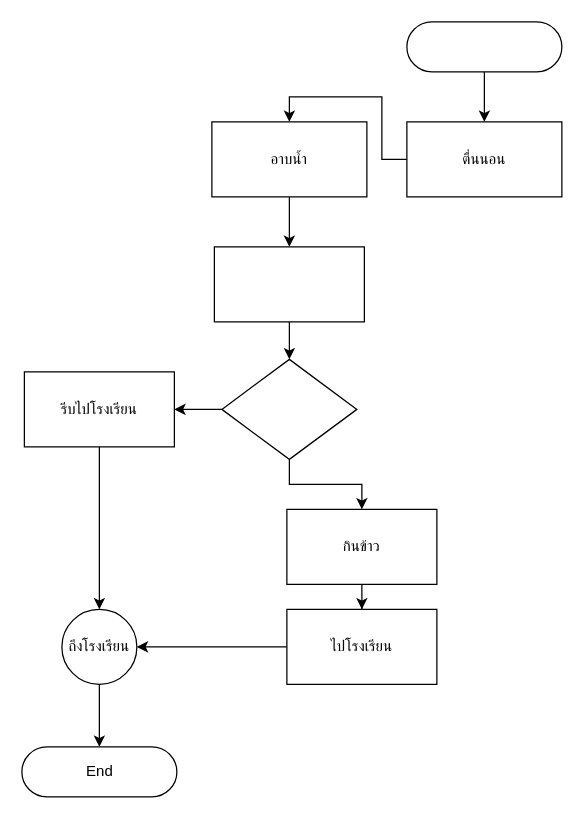
Some shapes in this 584 by 819 pixel diagram are drawn without their labels. Each missing label, with the centre of its shape:
Start: (484,46)
แปลงฟัน: (288,284)
ไปโรงเรียนทัน: (289,408)
